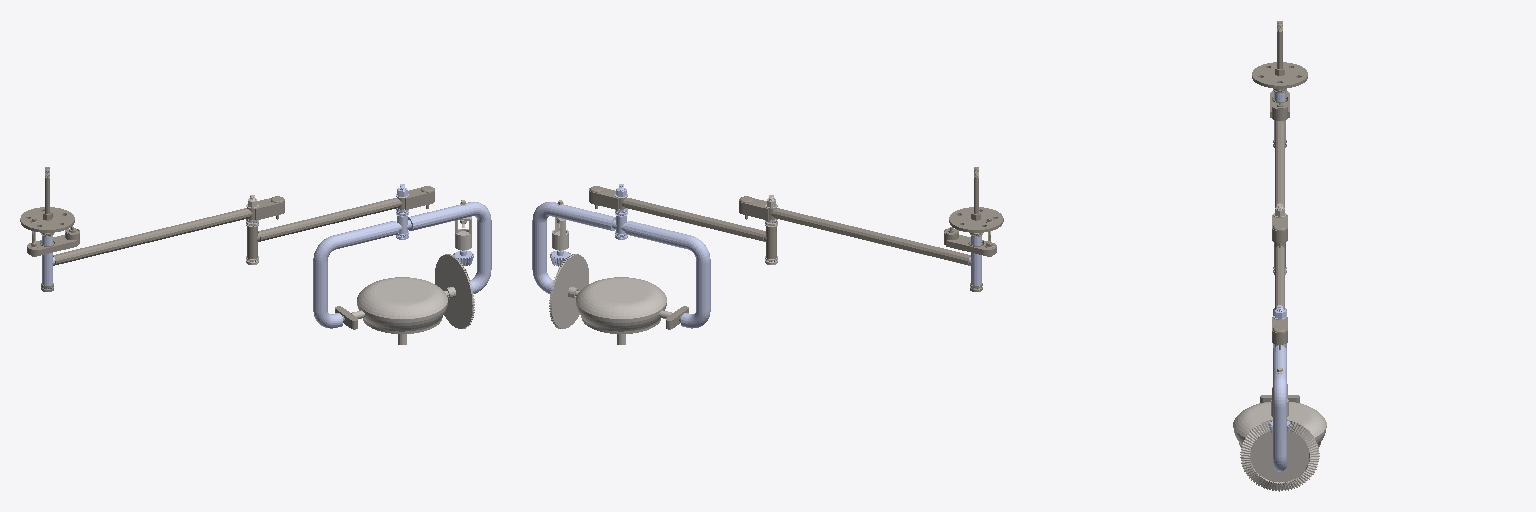
The robot description file, URDF, robot "otf":
<?xml version="1.0" encoding="utf-8"?>
<!-- This URDF was automatically created by SolidWorks to URDF Exporter! Originally created by [author] ([email redacted]) 
     Commit Version: 1.6.0-1-g15f4949  Build Version: 1.6.7594.29634
     For more information, please see http://wiki.ros.org/sw_urdf_exporter -->
<robot
  name="otf">
  <link
    name="b">
    <inertial>
      <origin
        xyz="0.0108230167178515 9.27600352705151E-09 -0.0510461125589844"
        rpy="0 0 0" />
      <mass
        value="0.593077727132138" />
      <inertia
        ixx="0.00200538179080162"
        ixy="3.48493771653903E-09"
        ixz="-6.05424653432736E-06"
        iyy="0.00233915051923309"
        iyz="-7.1467407839396E-10"
        izz="0.00124160566424522" />
    </inertial>
    <visual>
      <origin
        xyz="0 0 0"
        rpy="0 0 0" />
      <geometry>
        <mesh
          filename="package://otf/meshes/b.STL" />
      </geometry>
      <material
        name="">
        <color
          rgba="0.647058823529412 0.619607843137255 0.588235294117647 1" />
      </material>
    </visual>
    <collision>
      <origin
        xyz="0 0 0"
        rpy="0 0 0" />
      <geometry>
        <mesh
          filename="package://otf/meshes/b.STL" />
      </geometry>
    </collision>
  </link>
  <link
    name="p1">
    <inertial>
      <origin
        xyz="0.00211622618021025 -4.52844711506674E-08 0.0656387309699442"
        rpy="0 0 0" />
      <mass
        value="0.0365148827381756" />
      <inertia
        ixx="8.75427933934605E-05"
        ixy="2.8909347058332E-11"
        ixz="-7.22667692463702E-07"
        iyy="8.95387938844499E-05"
        iyz="3.70680544504623E-11"
        izz="1.14378225787831E-05" />
    </inertial>
    <visual>
      <origin
        xyz="0 0 0"
        rpy="0 0 0" />
      <geometry>
        <mesh
          filename="package://otf/meshes/p1.STL" />
      </geometry>
      <material
        name="">
        <color
          rgba="0.792156862745098 0.819607843137255 0.933333333333333 1" />
      </material>
    </visual>
    <collision>
      <origin
        xyz="0 0 0"
        rpy="0 0 0" />
      <geometry>
        <mesh
          filename="package://otf/meshes/p1.STL" />
      </geometry>
    </collision>
  </link>
  <joint
    name="p1_b"
    type="revolute">
    <origin
      xyz="0 0 -0.0743"
      rpy="3.1416 0 0" />
    <parent
      link="b" />
    <child
      link="p1" />
    <axis
      xyz="0 0 1" />
    <limit
      lower="-0.01"
      upper="0.01"
      effort="100"
      velocity="0" />
  </joint>
  <link
    name="p2">
    <inertial>
      <origin
        xyz="-0.000325816761221259 8.1857460137516E-05 0.0941493404932696"
        rpy="0 0 0" />
      <mass
        value="0.362229191396754" />
      <inertia
        ixx="0.00597476663521978"
        ixy="-2.32943390262284E-06"
        ixz="6.04575323182545E-06"
        iyy="0.00596608087269397"
        iyz="-1.7128273249715E-06"
        izz="0.000104366948766741" />
    </inertial>
    <visual>
      <origin
        xyz="0 0 0"
        rpy="0 0 0" />
      <geometry>
        <mesh
          filename="package://otf/meshes/p2.STL" />
      </geometry>
      <material
        name="">
        <color
          rgba="0.647058823529412 0.619607843137255 0.588235294117647 1" />
      </material>
    </visual>
    <collision>
      <origin
        xyz="0 0 0"
        rpy="0 0 0" />
      <geometry>
        <mesh
          filename="package://otf/meshes/p2.STL" />
      </geometry>
    </collision>
  </link>
  <joint
    name="p2_p1"
    type="fixed">
    <origin
      xyz="0.71934 0 0.075"
      rpy="-1.5708 -1.3246 1.5708" />
    <parent
      link="p1" />
    <child
      link="p2" />
    <axis
      xyz="0 0 0" />
  </joint>
  <link
    name="fs1">
    <inertial>
      <origin
        xyz="-3.01460369667161E-07 -3.1819825496715E-07 0.0594837330349332"
        rpy="0 0 0" />
      <mass
        value="0.095072361461563" />
      <inertia
        ixx="0.000266239310450197"
        ixy="5.12057408803769E-11"
        ixz="-2.45428478945114E-09"
        iyy="0.000266239345919637"
        iyz="-3.31630361044051E-09"
        izz="1.16188586500563E-05" />
    </inertial>
    <visual>
      <origin
        xyz="0 0 0"
        rpy="0 0 0" />
      <geometry>
        <mesh
          filename="package://otf/meshes/fs1.STL" />
      </geometry>
      <material
        name="">
        <color
          rgba="0.776470588235294 0.756862745098039 0.737254901960784 1" />
      </material>
    </visual>
    <collision>
      <origin
        xyz="0 0 0"
        rpy="0 0 0" />
      <geometry>
        <mesh
          filename="package://otf/meshes/fs1.STL" />
      </geometry>
    </collision>
  </link>
  <joint
    name="fs1_p2"
    type="fixed">
    <origin
      xyz="0 0 -0.018607"
      rpy="1.5708 1.0442 1.3246" />
    <parent
      link="p2" />
    <child
      link="fs1" />
    <axis
      xyz="0 0 0" />
  </joint>
  <link
    name="p3">
    <inertial>
      <origin
        xyz="0.00154516873116206 2.23333015237263E-09 0.0110596752348162"
        rpy="0 0 0" />
      <mass
        value="0.080238478316838" />
      <inertia
        ixx="8.57585076910375E-05"
        ixy="1.23908111035887E-11"
        ixz="-1.12695292778759E-06"
        iyy="8.86667116101849E-05"
        iyz="-5.0243694014807E-11"
        izz="1.75427554147157E-05" />
    </inertial>
    <visual>
      <origin
        xyz="0 0 0"
        rpy="0 0 0" />
      <geometry>
        <mesh
          filename="package://otf/meshes/p3.STL" />
      </geometry>
      <material
        name="">
        <color
          rgba="0.647058823529412 0.619607843137255 0.588235294117647 1" />
      </material>
    </visual>
    <collision>
      <origin
        xyz="0 0 0"
        rpy="0 0 0" />
      <geometry>
        <mesh
          filename="package://otf/meshes/p3.STL" />
      </geometry>
    </collision>
  </link>
  <joint
    name="p3_fs1"
    type="revolute">
    <origin
      xyz="0 0 0.11015"
      rpy="3.1416 0 -0.52661" />
    <parent
      link="fs1" />
    <child
      link="p3" />
    <axis
      xyz="0 0 -1" />
    <limit
      lower="-0.01"
      upper="0.01"
      effort="100"
      velocity="0" />
  </joint>
  <link
    name="p4">
    <inertial>
      <origin
        xyz="0.000108140331570555 -0.000362090118619984 0.0300219831287907"
        rpy="0 0 0" />
      <mass
        value="0.322016805430805" />
      <inertia
        ixx="0.00230859781580296"
        ixy="-2.67628732946519E-06"
        ixz="-1.83777399315252E-06"
        iyy="0.00231676034514645"
        iyz="6.00616085182227E-06"
        izz="9.39370121971393E-05" />
    </inertial>
    <visual>
      <origin
        xyz="0 0 0"
        rpy="0 0 0" />
      <geometry>
        <mesh
          filename="package://otf/meshes/p4.STL" />
      </geometry>
      <material
        name="">
        <color
          rgba="0.647058823529412 0.619607843137255 0.588235294117647 1" />
      </material>
    </visual>
    <collision>
      <origin
        xyz="0 0 0"
        rpy="0 0 0" />
      <geometry>
        <mesh
          filename="package://otf/meshes/p4.STL" />
      </geometry>
    </collision>
  </link>
  <joint
    name="p4_p3"
    type="fixed">
    <origin
      xyz="0.52 0 0.020149"
      rpy="-1.5708 -0.2902 1.5708" />
    <parent
      link="p3" />
    <child
      link="p4" />
    <axis
      xyz="0 0 0" />
  </joint>
  <link
    name="fs2">
    <inertial>
      <origin
        xyz="2.26682828174951E-07 -4.43239558056696E-07 -0.0379572962453974"
        rpy="0 0 0" />
      <mass
        value="0.0837234282999245" />
      <inertia
        ixx="0.000134568693720268"
        ixy="-3.54902221367105E-11"
        ixz="-9.45955392595141E-10"
        iyy="0.000134568782084101"
        iyz="2.93406398061929E-09"
        izz="1.12088787441517E-05" />
    </inertial>
    <visual>
      <origin
        xyz="0 0 0"
        rpy="0 0 0" />
      <geometry>
        <mesh
          filename="package://otf/meshes/fs2.STL" />
      </geometry>
      <material
        name="">
        <color
          rgba="0.792156862745098 0.819607843137255 0.933333333333333 1" />
      </material>
    </visual>
    <collision>
      <origin
        xyz="0 0 0"
        rpy="0 0 0" />
      <geometry>
        <mesh
          filename="package://otf/meshes/fs2.STL" />
      </geometry>
    </collision>
  </link>
  <joint
    name="fs2_p4"
    type="fixed">
    <origin
      xyz="0 0 -0.0200000000000002"
      rpy="1.5707963267949 0.876203987801579 0.290201760753576" />
    <parent
      link="p4" />
    <child
      link="fs2" />
    <axis
      xyz="-0.640072280782535 -0.768314698137322 0" />
  </joint>
  <link
    name="p5">
    <inertial>
      <origin
        xyz="-5.74248963935986E-08 -1.97742632232382E-08 0.0132778883382069"
        rpy="0 0 0" />
      <mass
        value="0.0179453319684086" />
      <inertia
        ixx="6.98401847085854E-06"
        ixy="6.7418028603697E-11"
        ixz="7.73625800221767E-11"
        iyy="1.13398680905365E-05"
        iyz="1.9850218842681E-11"
        izz="8.98770774563359E-06" />
    </inertial>
    <visual>
      <origin
        xyz="0 0 0"
        rpy="0 0 0" />
      <geometry>
        <mesh
          filename="package://otf/meshes/p5.STL" />
      </geometry>
      <material
        name="">
        <color
          rgba="0.792156862745098 0.819607843137255 0.933333333333333 1" />
      </material>
    </visual>
    <collision>
      <origin
        xyz="0 0 0"
        rpy="0 0 0" />
      <geometry>
        <mesh
          filename="package://otf/meshes/p5.STL" />
      </geometry>
    </collision>
  </link>
  <joint
    name="p5_fs2"
    type="revolute">
    <origin
      xyz="0 0 -0.064148533521579"
      rpy="3.14159265358979 0 -0.694592338993318" />
    <parent
      link="fs2" />
    <child
      link="p5" />
    <axis
      xyz="0 0 -1" />
    <limit
      lower="-0.01"
      upper="0.01"
      effort="100"
      velocity="0" />
  </joint>
  <link
    name="g">
    <inertial>
      <origin
        xyz="-0.0246195093001971 -0.0850273498456152 -1.50385637951443E-07"
        rpy="0 0 0" />
      <mass
        value="0.9868423672785" />
      <inertia
        ixx="0.0100062619759924"
        ixy="8.26058732399364E-07"
        ixz="1.3795482592097E-08"
        iyy="0.00734091135017044"
        iyz="9.05059039572444E-09"
        izz="0.0169853275093895" />
    </inertial>
    <visual>
      <origin
        xyz="0 0 0"
        rpy="0 0 0" />
      <geometry>
        <mesh
          filename="package://otf/meshes/g.STL" />
      </geometry>
      <material
        name="">
        <color
          rgba="0.792156862745098 0.819607843137255 0.933333333333333 1" />
      </material>
    </visual>
    <collision>
      <origin
        xyz="0 0 0"
        rpy="0 0 0" />
      <geometry>
        <mesh
          filename="package://otf/meshes/g.STL" />
      </geometry>
    </collision>
  </link>
  <joint
    name="g_p5"
    type="fixed">
    <origin
      xyz="-0.0249999999999986 0 0.0199999999999965"
      rpy="-1.5707963267949 0 3.14159265358979" />
    <parent
      link="p5" />
    <child
      link="g" />
    <axis
      xyz="0 0 0" />
  </joint>
  <link
    name="mh">
    <inertial>
      <origin
        xyz="0.0814784816223914 -2.46862336128473E-10 -7.08988423525625E-12"
        rpy="0 0 0" />
      <mass
        value="0.119789198842206" />
      <inertia
        ixx="4.07555728965012E-05"
        ixy="6.22665721635199E-13"
        ixz="3.70263505138604E-15"
        iyy="8.50206916250546E-05"
        iyz="2.69880925773866E-06"
        izz="8.61759607077169E-05" />
    </inertial>
    <visual>
      <origin
        xyz="0 0 0"
        rpy="0 0 0" />
      <geometry>
        <mesh
          filename="package://otf/meshes/mh.STL" />
      </geometry>
      <material
        name="">
        <color
          rgba="0.776470588235294 0.756862745098039 0.737254901960784 1" />
      </material>
    </visual>
    <collision>
      <origin
        xyz="0 0 0"
        rpy="0 0 0" />
      <geometry>
        <mesh
          filename="package://otf/meshes/mh.STL" />
      </geometry>
    </collision>
  </link>
  <joint
    name="mh_g"
    type="fixed">
    <origin
      xyz="-0.244999999999999 0 0"
      rpy="1.41923084369896 0 -1.5707963267949" />
    <parent
      link="g" />
    <child
      link="mh" />
    <axis
      xyz="0 -0.150985853132846 0.988535923552476" />
  </joint>
  <link
    name="pi">
    <inertial>
      <origin
        xyz="-2.91368706939465E-10 -1.16891676893438E-10 0.0522794091600999"
        rpy="0 0 0" />
      <mass
        value="0.066369491057739" />
      <inertia
        ixx="1.86048065698488E-05"
        ixy="-8.30622107417722E-14"
        ixz="3.22154862363968E-13"
        iyy="1.860480694282E-05"
        iyz="-2.10277967151218E-13"
        izz="2.54451290731992E-05" />
    </inertial>
    <visual>
      <origin
        xyz="0 0 0"
        rpy="0 0 0" />
      <geometry>
        <mesh
          filename="package://otf/meshes/pi.STL" />
      </geometry>
      <material
        name="">
        <color
          rgba="0.792156862745098 0.819607843137255 0.933333333333333 1" />
      </material>
    </visual>
    <collision>
      <origin
        xyz="0 0 0"
        rpy="0 0 0" />
      <geometry>
        <mesh
          filename="package://otf/meshes/pi.STL" />
      </geometry>
    </collision>
  </link>
  <joint
    name="pi_mh"
    type="revolute">
    <origin
      xyz="0.107499999994934 0 0"
      rpy="1.5707963267949 1.36663932588329 1.5707963267949" />
    <parent
      link="mh" />
    <child
      link="pi" />
    <axis
      xyz="0 0 1" />
    <limit
      lower="-0.01"
      upper="0.01"
      effort="100"
      velocity="0" />
  </joint>
  <link
    name="cr">
    <inertial>
      <origin
        xyz="-0.168554978565971 -0.00114959677753279 0.00120134782721076"
        rpy="0 0 0" />
      <mass
        value="5.12100165091973" />
      <inertia
        ixx="0.0264949026500212"
        ixy="-2.18148033311051E-08"
        ixz="2.24246756598075E-08"
        iyy="0.0340113595995144"
        iyz="-0.00893220960009442"
        izz="0.0347985049620322" />
    </inertial>
    <visual>
      <origin
        xyz="0 0 0"
        rpy="0 0 0" />
      <geometry>
        <mesh
          filename="package://otf/meshes/cr.STL" />
      </geometry>
      <material
        name="">
        <color
          rgba="0.776470588235294 0.756862745098039 0.737254901960784 1" />
      </material>
    </visual>
    <collision>
      <origin
        xyz="0 0 0"
        rpy="0 0 0" />
      <geometry>
        <mesh
          filename="package://otf/meshes/cr.STL" />
      </geometry>
    </collision>
  </link>
  <joint
    name="cr_pi"
    type="revolute">
    <origin
      xyz="0.0358424746890051 -0.00188674996729073 0.16250000000507"
      rpy="2.37821135654508 0 3.08900113577412" />
    <parent
      link="pi" />
    <child
      link="cr" />
    <axis
      xyz="1 0 0" />
    <limit
      lower="-0.01"
      upper="0.01"
      effort="100"
      velocity="0" />
  </joint>
  <link
    name="dc">
    <inertial>
      <origin
        xyz="4.3551433496508E-06 -0.00190649786114361 0.0139217307387329"
        rpy="0 0 0" />
      <mass
        value="0.0963335273959794" />
      <inertia
        ixx="1.65299218508302E-05"
        ixy="2.7113116177103E-15"
        ixz="-4.47185442826483E-09"
        iyy="9.72802713710577E-05"
        iyz="6.65432136145592E-19"
        izz="0.000101418351511815" />
    </inertial>
    <visual>
      <origin
        xyz="0 0 0"
        rpy="0 0 0" />
      <geometry>
        <mesh
          filename="package://otf/meshes/dc.STL" />
      </geometry>
      <material
        name="">
        <color
          rgba="0.647058823529412 0.619607843137255 0.6 1" />
      </material>
    </visual>
    <collision>
      <origin
        xyz="0 0 0"
        rpy="0 0 0" />
      <geometry>
        <mesh
          filename="package://otf/meshes/dc.STL" />
      </geometry>
    </collision>
  </link>
  <joint
    name="dc_cr"
    type="fixed">
    <origin
      xyz="-0.384545400350199 -0.0103705258204091 0.0108375363532622"
      rpy="3.14159265358979 -0.763381311038882 1.5707963267949" />
    <parent
      link="cr" />
    <child
      link="dc" />
    <axis
      xyz="0 0 0" />
  </joint>
  <link name="world" />
  <joint name="ceiling_joint" type="fixed">
    <origin xyz="0.5 0.5 1.5" rpy="0 0 0" />
    <parent link="world" />
    <child link="b" />
  </joint>
    <transmission name="tran_p1_b">
      <type>transmission_interface/SimpleTransmission</type>
      <joint name="p1_b">
          <hardwareInterface>EffortJointInterface</hardwareInterface>
      </joint>
      <actuator name="act_p1_b">
          <hardwareInterface>EffortJointInterface</hardwareInterface>
          <mechanicalReduction>1</mechanicalReduction>
      </actuator>
  </transmission>
  <transmission name="tran_p3_fs1">
      <type>transmission_interface/SimpleTransmission</type>
      <joint name="p3_fs1">
          <hardwareInterface>EffortJointInterface</hardwareInterface>
      </joint>
      <actuator name="act_p3_fs1">
          <hardwareInterface>EffortJointInterface</hardwareInterface>
          <mechanicalReduction>1</mechanicalReduction>
      </actuator>
  </transmission>
  <transmission name="tran_p5_fs2">
      <type>transmission_interface/SimpleTransmission</type>
      <joint name="p5_fs2">
          <hardwareInterface>EffortJointInterface</hardwareInterface>
      </joint>
      <actuator name="act_p5_fs2">
          <hardwareInterface>EffortJointInterface</hardwareInterface>
          <mechanicalReduction>1</mechanicalReduction>
      </actuator>
  </transmission>
  <transmission name="tran_pi_mh">
      <type>transmission_interface/SimpleTransmission</type>
      <joint name="pi_mh">
          <hardwareInterface>EffortJointInterface</hardwareInterface>
      </joint>
      <actuator name="act_pi_mh">
          <hardwareInterface>EffortJointInterface</hardwareInterface>
          <mechanicalReduction>1</mechanicalReduction>
      </actuator>
  </transmission>
  <transmission name="tran_cr_pi">
      <type>transmission_interface/SimpleTransmission</type>
      <joint name="cr_pi">
          <hardwareInterface>EffortJointInterface</hardwareInterface>
      </joint>
      <actuator name="act_cr_pi">
          <hardwareInterface>EffortJointInterface</hardwareInterface>
          <mechanicalReduction>1</mechanicalReduction>
      </actuator>
  </transmission>

  <gazebo reference="dc">
        <sensor name="camera" type="depth">
            <update_rate>0.0</update_rate>
            <visualize>true</visualize>
            <camera>
                <horizontal_fov>1.047198</horizontal_fov>
                <image>
                    <width>640</width>
                    <height>480</height>
                    <format>R8G8B8</format>
                </image>
                <clip>
                    <near>0.05</near>
                    <far>3</far>
                </clip>
            </camera>
            <plugin name="camera_plugin" filename="libgazebo_ros_openni_kinect.so">
                <baseline>0.2</baseline>
                <alwaysOn>true</alwaysOn>
               
                <updateRate>0.0</updateRate>
                <cameraName>camera_ir</cameraName>
                <imageTopicName>/camera/color/image_raw</imageTopicName>
                <cameraInfoTopicName>/camera/color/camera_info</cameraInfoTopicName>
                <depthImageTopicName>/camera/depth/image_raw</depthImageTopicName>
                <depthImageCameraInfoTopicName>/camera/depth/camera_info</depthImageCameraInfoTopicName>
                <pointCloudTopicName>/camera/depth/points</pointCloudTopicName>
                <frameName>dc</frameName>
                <pointCloudCutoff>0.5</pointCloudCutoff>
                <pointCloudCutoffMax>3.0</pointCloudCutoffMax>
                <distortionK1>0</distortionK1>
                <distortionK2>0</distortionK2>
                <distortionK3>0</distortionK3>
                <distortionT1>0</distortionT1>
                <distortionT2>0</distortionT2>
                <CxPrime>0</CxPrime>
                <Cx>0</Cx>
                <Cy>0</Cy>
                <focalLength>0</focalLength>
                <hackBaseline>0</hackBaseline>
            </plugin>
        </sensor>
  </gazebo>
 

  <gazebo>
    <plugin name="gazebo_ros_control" filename="libgazebo_ros_control.so">
      <robotNamespace>/otf</robotNamespace>
    </plugin>
  </gazebo> 
</robot>

--- Render facts (derived) ---
3 views of the same robot in one strip: view 1: azimuth 30°, elevation 25°; view 2: azimuth 150°, elevation 25°; view 3: azimuth 270°, elevation 25° (orthographic).
Robot: otf — 14 links, 13 joints (5 revolute, 8 fixed); root link world; default pose: every joint at zero.
Links seen in each view (by area): view 1: cr, g, p2, b, p4; view 2: cr, g, p2, b, p4; view 3: cr, b, g, p2, p4.
Boxes of the visible links, box(x1,y1,x2,y2) form: cr: box(351, 254, 474, 344); g: box(313, 202, 491, 328); p2: box(53, 196, 284, 265); b: box(20, 167, 79, 291); p4: box(258, 186, 434, 241); cr: box(549, 254, 672, 344); g: box(532, 202, 710, 328); p2: box(739, 196, 970, 265); b: box(944, 167, 1003, 291); p4: box(589, 186, 765, 241); cr: box(1233, 402, 1326, 491); b: box(1252, 21, 1307, 147); g: box(1273, 308, 1286, 471); p2: box(1272, 121, 1287, 247); p4: box(1272, 246, 1287, 349).
Size in the robot's own frame: 1.68 by 0.2846 by 0.9031 metres.
Meshes: 13 distinct files referenced, 13 mesh visuals loaded (13 binary STL).
